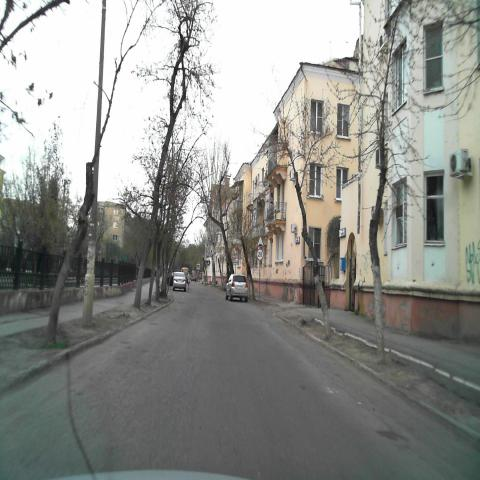1_17: (256, 234, 264, 248)
1_23: (232, 248, 238, 258)
3_24: (256, 248, 264, 260)
